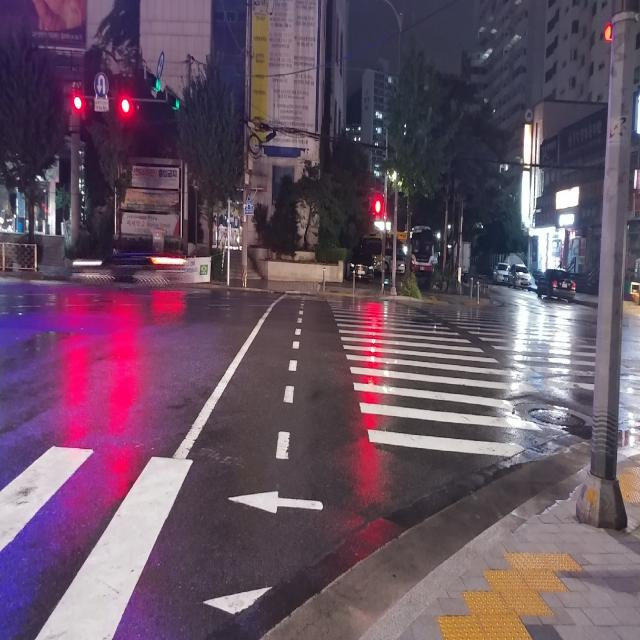횡단보도: (326, 298, 640, 458), (0, 452, 195, 640)
